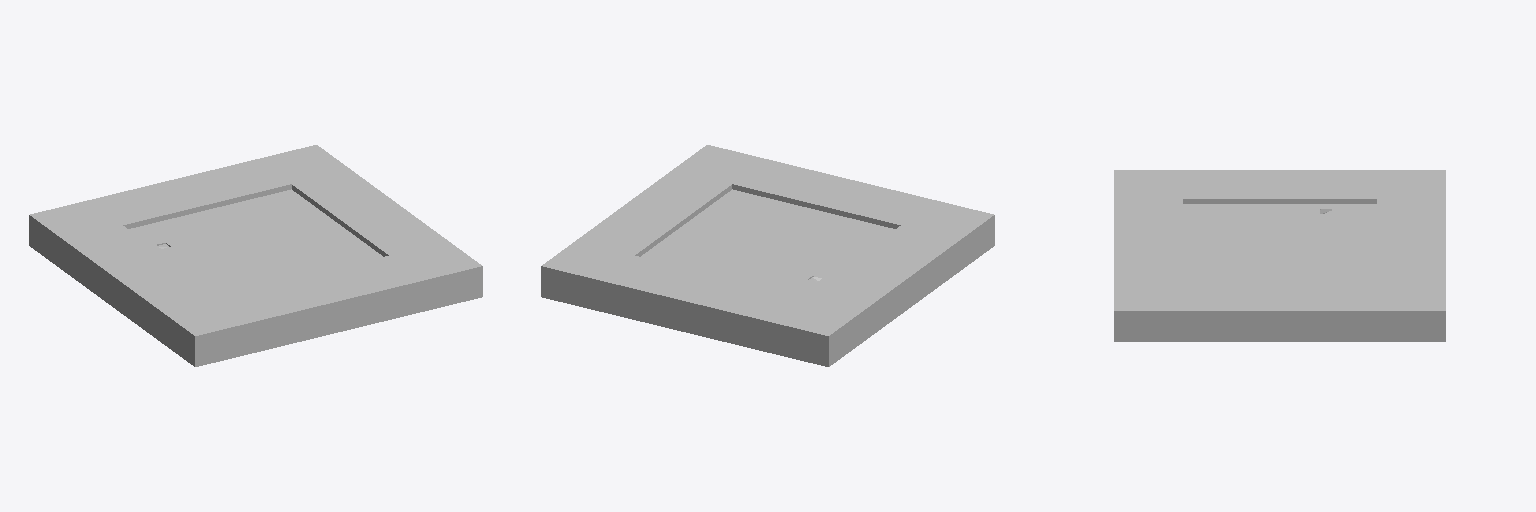
Rendered from Cave 1.obj.
3 renders of one model, left to right at view 1: azimuth 30°, elevation 25°; view 2: azimuth 150°, elevation 25°; view 3: azimuth 270°, elevation 25°, orthographic.
Visible parts, largest first — view 1: Cube.011; view 2: Cube.011; view 3: Cube.011.
Boxes of the visible parts, x1,y1,x2,y2 form: Cube.011: [29, 145, 482, 366]; Cube.011: [541, 145, 994, 366]; Cube.011: [1114, 170, 1445, 341].
Bounding box in the file's own units: 29 × 3 × 29.